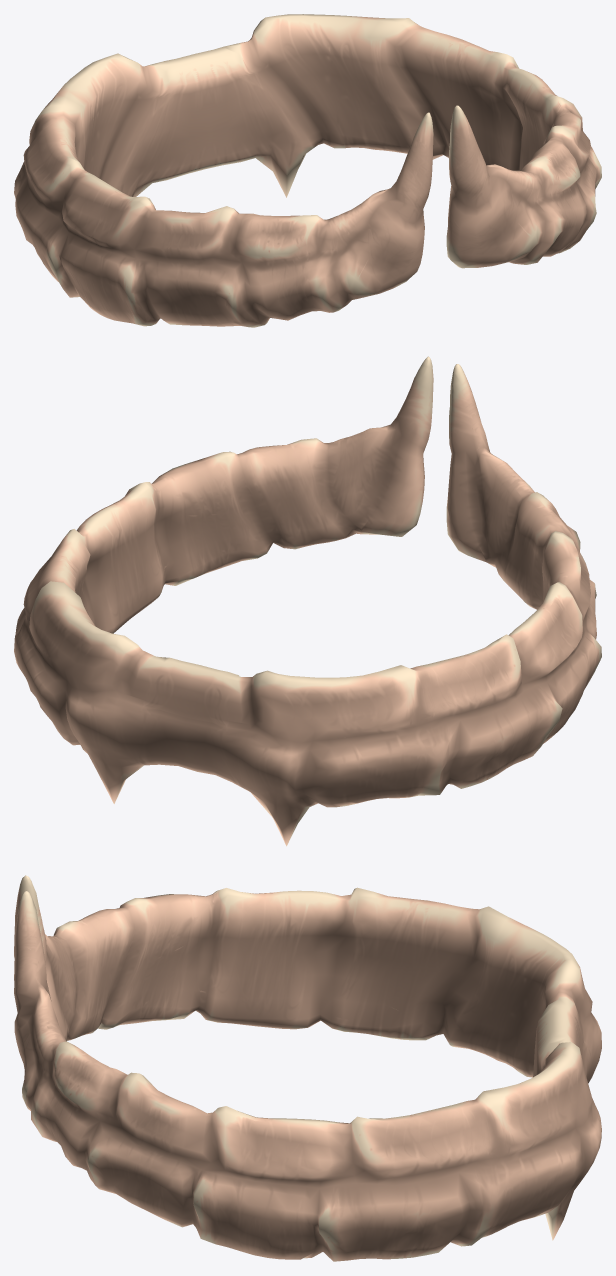
File: NakoHornsVroid8.glb
3 renders of one model, top to bottom at view 1: azimuth 30°, elevation 25°; view 2: azimuth 150°, elevation 25°; view 3: azimuth 270°, elevation 25°, orthographic. The views are drawn at different scales.
Parts seen in each view (by area): view 1: RetopoHorns; view 2: RetopoHorns; view 3: RetopoHorns.
Part boxes in pixels (x1,y1,x2,y2): RetopoHorns: (14,14,601,327); RetopoHorns: (14,356,601,846); RetopoHorns: (14,875,601,1261).
Size of the model in its own units: 0.3494 by 0.188 by 0.3209.
1 material, 1 textured.
